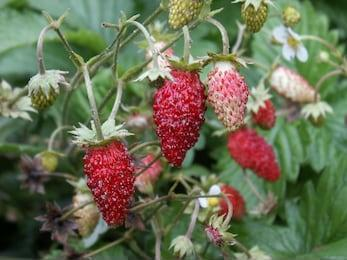Fresa: (77, 126, 145, 230), (150, 56, 209, 171)
